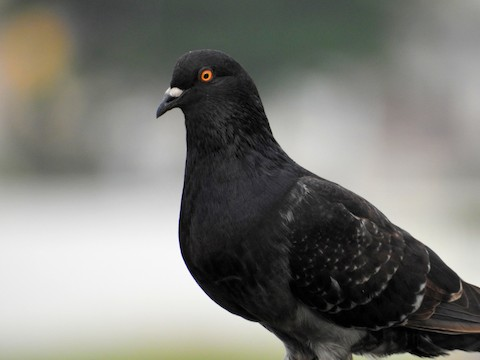pigeon: (154, 45, 478, 360)
